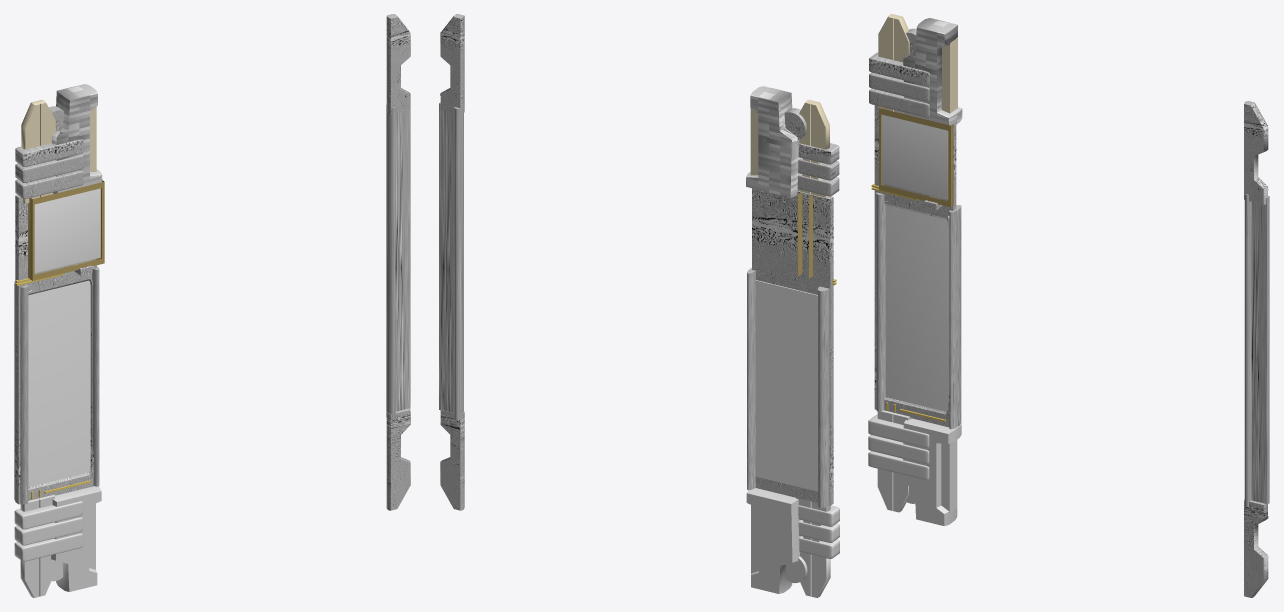
Rendered from Instruments Shape.dae.
3 renders of one model, left to right at view 1: azimuth 30°, elevation 25°; view 2: azimuth 150°, elevation 25°; view 3: azimuth 330°, elevation 25°, orthographic.
Visible parts, largest first — view 1: Polygon_Mesh (×17); view 2: Polygon_Mesh (×16); view 3: Polygon_Mesh (×18).
Part boxes in pixels (x1,y1,x2,y2): Polygon_Mesh (×17): (14, 14, 410, 597); Polygon_Mesh (×16): (439, 14, 839, 597); Polygon_Mesh (×18): (868, 14, 1269, 597).
Bounding box in the file's own units: 646 × 772 × 42.25.
